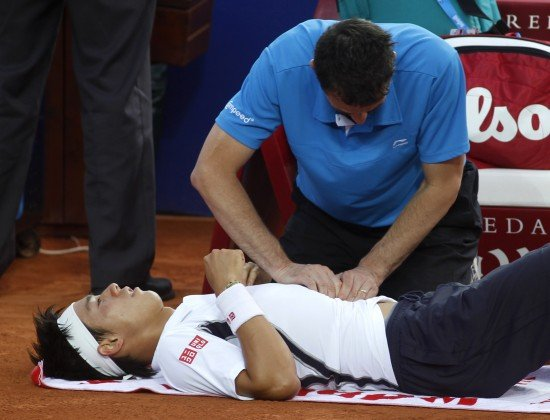fall: (13, 242, 544, 397)
